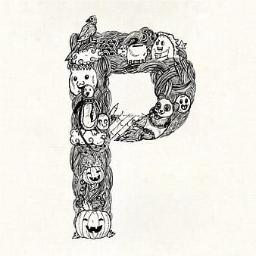p: (62, 10, 200, 244)
